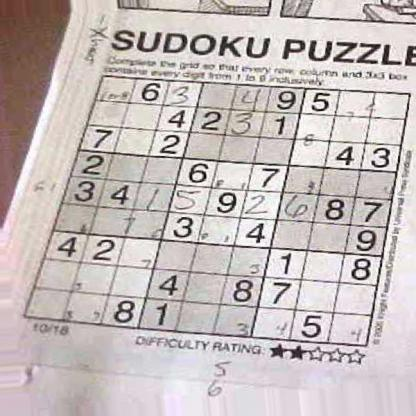sudoku: (20, 72, 414, 350)
